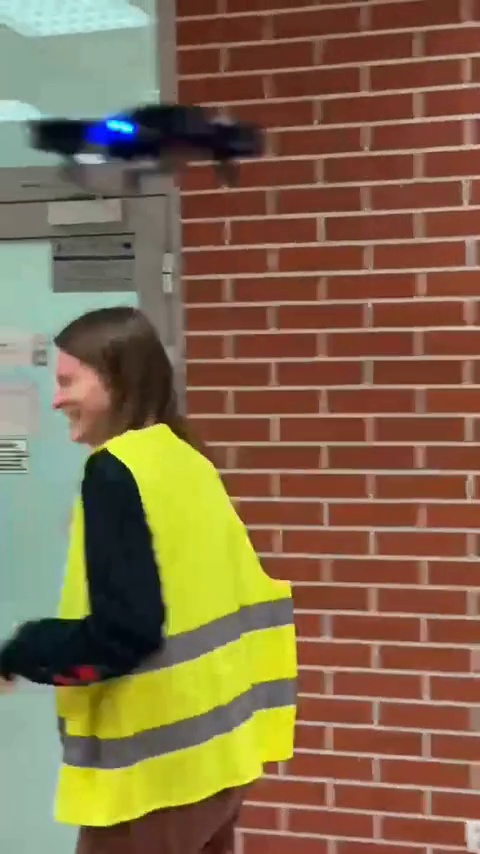drone: (21, 97, 264, 187)
vest: (0, 309, 306, 850)
